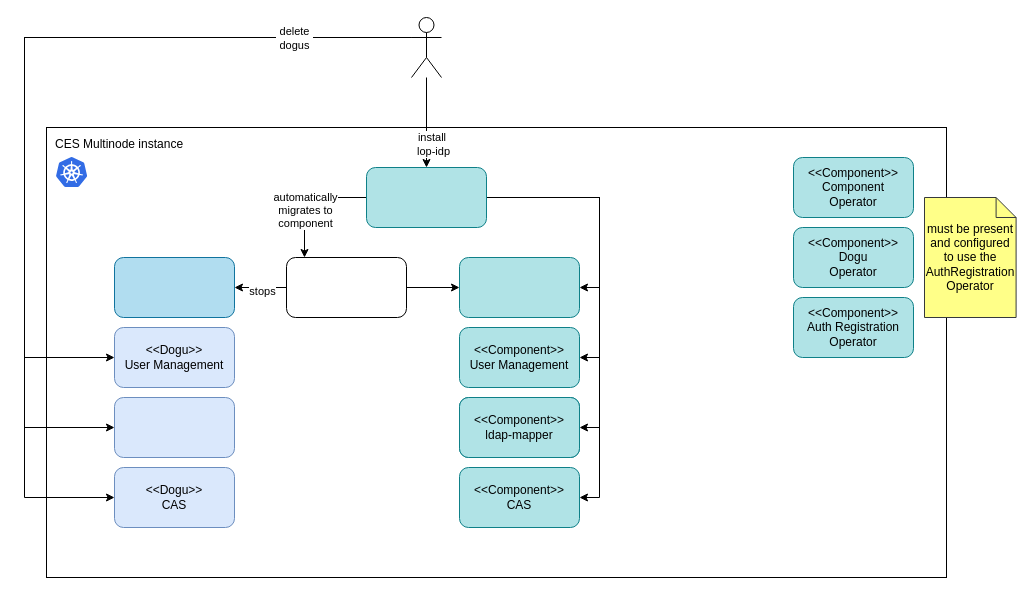
Image size: 1034x595. Some labels were removed from this diagram. Here are the shapes that lost their labels. From the top down, the centre of each, then its label:
At pixel 426 47: "Administrator".
At pixel 426 197: "<<Component>> lop-idp".
At pixel 174 287: "<<Dogu>> LDAP".
At pixel 346 287: "LDAP migration".
At pixel 519 287: "<<Component>> LDAP".
At pixel 174 427: "<<Dogu>> ldap-mapper".
